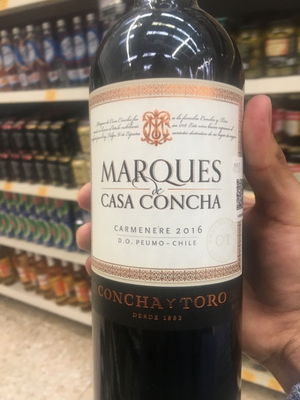marques de casa concha carmenere: (82, 18, 247, 398)
